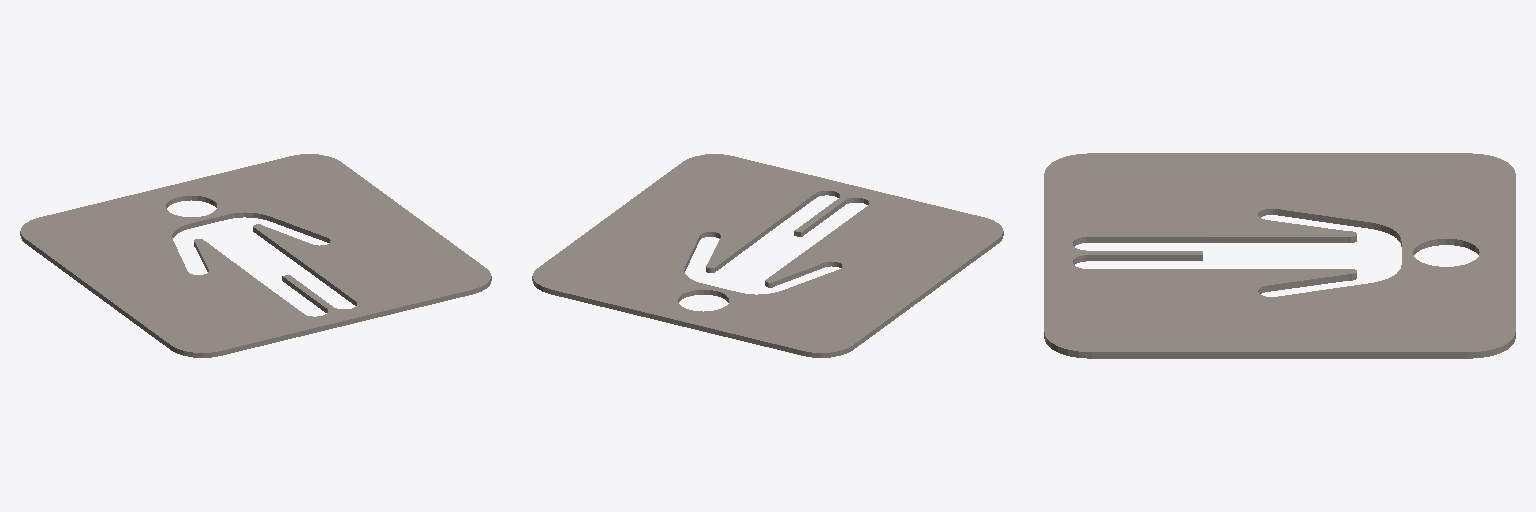
The robot description file, URDF, robot "bathroom_poster_man":
<robot
  name="bathroom_poster_man">
  <link
    name="bathroom_poster_man">
    <inertial>
      <origin
        xyz="5.5483E-09 -0.00012009 -0.00075"
        rpy="0 0 0" />
      <mass
        value="0.10006" />
      <inertia
        ixx="8.87846643887892E-05"
        ixy="1.19339275413502E-11"
        ixz="3.22892494445237E-23"
        iyy="9.63388524695017E-05"
        iyz="5.37173970530909E-21"
        izz="0.000185085996104233" />
    </inertial>
    <visual>
      <origin
        xyz="0 0 0"
        rpy="0 0 0" />
      <geometry>
        <mesh
          filename="package://bathroom_poster_man/meshes/bathroom_poster_man.dae" />
      </geometry>
      <material
        name="">
        <color
          rgba="0.64706 0.61961 0.58824 1" />
      </material>
    </visual>
    <collision>
      <origin
        xyz="0 0 0"
        rpy="0 0 0" />
      <geometry>
        <mesh
          filename="package://bathroom_poster_man/meshes/bathroom_poster_man.dae" />
      </geometry>
    </collision>
  </link>
</robot>

--- What the picture shows (computed from the rendered views, not written in the file) ---
The picture shows the robot from 3 angles, left to right: view 1: azimuth 30°, elevation 25°; view 2: azimuth 150°, elevation 25°; view 3: azimuth 270°, elevation 25°; orthographic projection.
Model bathroom_poster_man with 1 links and 0 joints (none), rooted at bathroom_poster_man, posed every joint at zero.
Links seen in each view (by area): view 1: bathroom_poster_man; view 2: bathroom_poster_man; view 3: bathroom_poster_man.
Link boxes in pixels (box(x1,y1,x2,y2)): bathroom_poster_man: box(20, 154, 491, 357); bathroom_poster_man: box(532, 154, 1003, 357); bathroom_poster_man: box(1044, 153, 1515, 358).
Bounding box of the posed robot: 0.1 × 0.1 × 0.0015 m (x, y, z).
Meshes: 1 distinct files referenced, 1 mesh visuals loaded (1 Collada DAE).